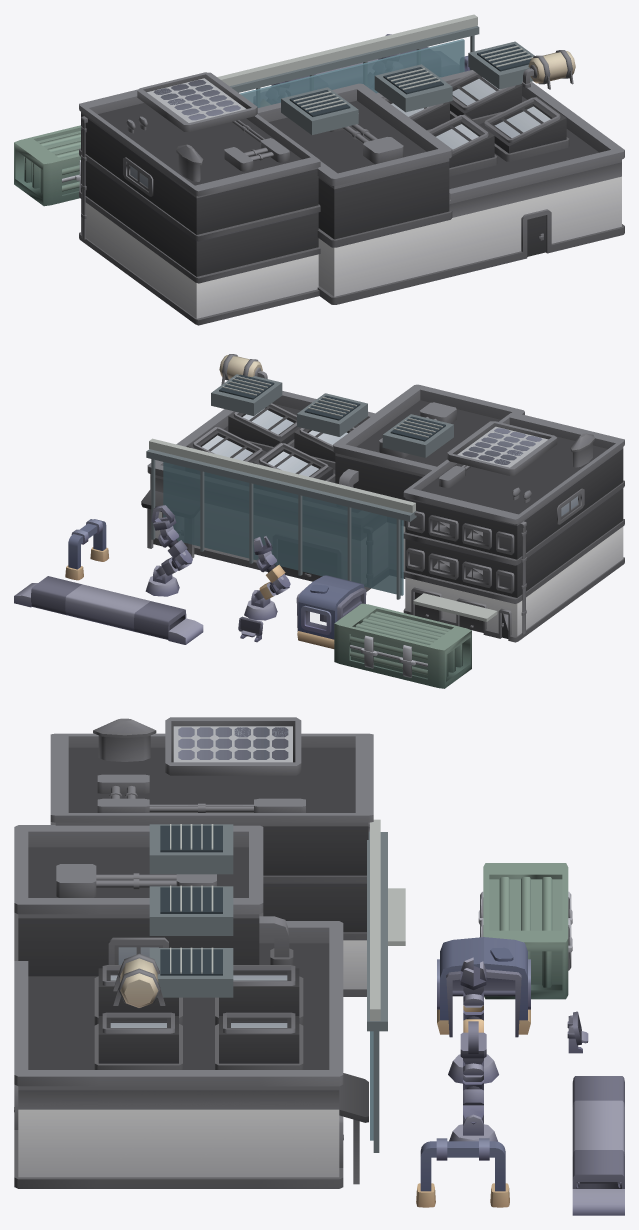
The model's file is precisionElectronicsWorks.glb.
3 views of the same model, one above another, from view 1: azimuth 30°, elevation 25°; view 2: azimuth 150°, elevation 25°; view 3: azimuth 270°, elevation 25° (orthographic). The views are drawn at different scales.
Visible parts, largest first — view 1: low-0, high-0, medium-0, high-5, high-3, medium-2, high-2, high-6; view 2: low-0, high-0, medium-2, high-2, medium-0, high-1, high-5, medium-1, high-3, high-6, medium-3; view 3: low-0, high-0, medium-0, high-1, medium-1, high-5, high-6, high-3, medium-3.
Part boxes in pixels (<box>): low-0: <box>79,70,623,325</box>; high-0: <box>15,50,624,325</box>; medium-0: <box>14,70,624,324</box>; high-5: <box>230,26,534,134</box>; high-3: <box>217,14,533,112</box>; medium-2: <box>240,39,464,107</box>; high-2: <box>240,39,464,107</box>; high-6: <box>289,44,531,116</box>; low-0: <box>147,384,624,640</box>; high-0: <box>141,354,624,688</box>; medium-2: <box>163,462,403,595</box>; high-2: <box>163,462,403,595</box>; medium-0: <box>142,385,624,688</box>; high-1: <box>31,519,366,648</box>; high-5: <box>146,374,453,599</box>; medium-1: <box>14,505,290,644</box>; high-3: <box>149,376,442,512</box>; high-6: <box>219,374,445,441</box>; medium-3: <box>413,593,497,621</box>; low-0: <box>14,733,373,1188</box>; high-0: <box>14,717,572,1188</box>; medium-0: <box>14,721,571,1188</box>; high-1: <box>416,937,624,1207</box>; medium-1: <box>448,962,624,1215</box>; high-5: <box>149,824,387,1152</box>; high-6: <box>160,825,222,975</box>; high-3: <box>170,819,380,1020</box>; medium-3: <box>388,888,405,945</box>.
Size of the model in its own units: 68.5 by 23 by 58.5.
Materials: 7 (2 with a texture image).
